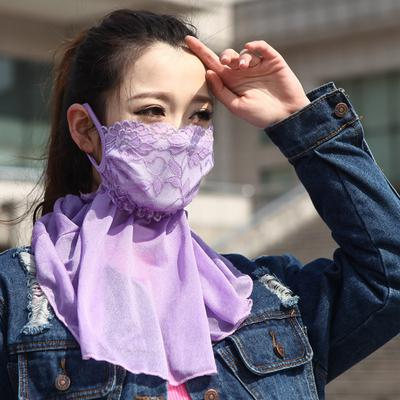OK: (92, 87, 214, 209)
